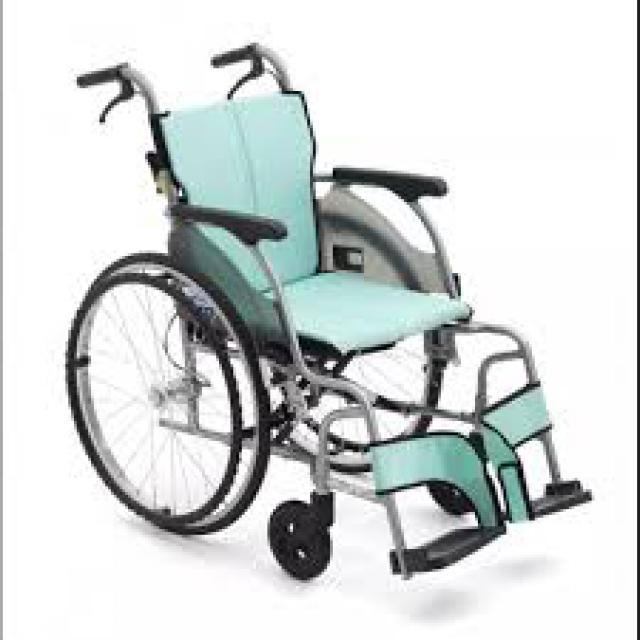wheelchair: (51, 31, 603, 614)
